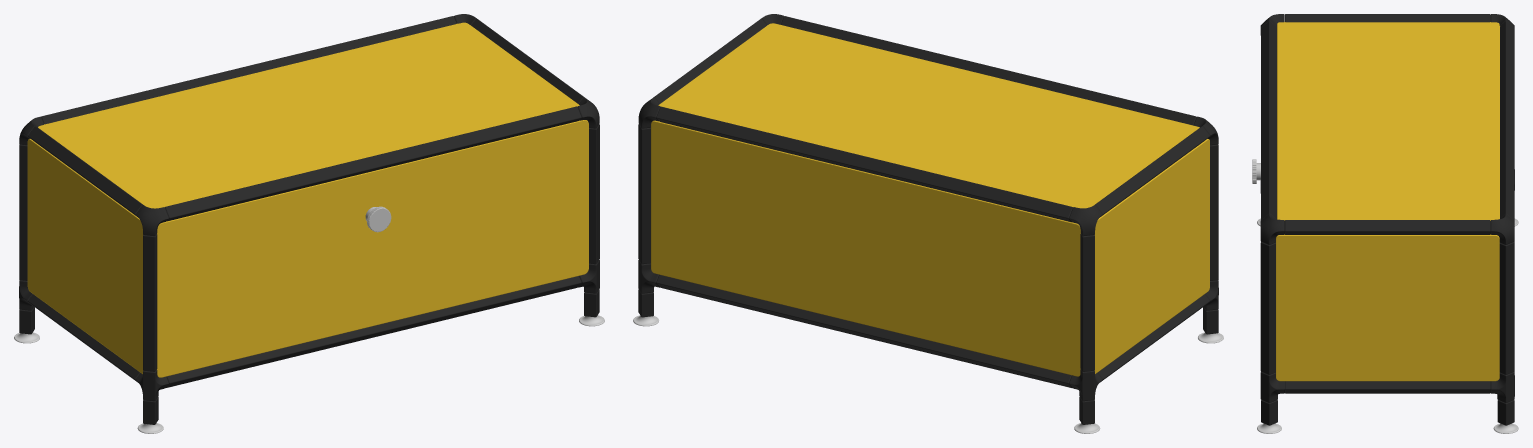
3 views of the same model, side by side, from view 1: azimuth 30°, elevation 25°; view 2: azimuth 150°, elevation 25°; view 3: azimuth 270°, elevation 25° (orthographic). The views are drawn at different scales.
Visible parts, largest first — view 1: 729x329x229; view 2: 729x329x229; view 3: 729x329x229.
Part boxes in pixels (x1,y1,x2,y2): 729x329x229: (14, 14, 604, 433); 729x329x229: (633, 14, 1223, 433); 729x329x229: (1252, 14, 1518, 433).
Size of the model in its own units: 0.8189 by 0.3683 by 0.4257.
